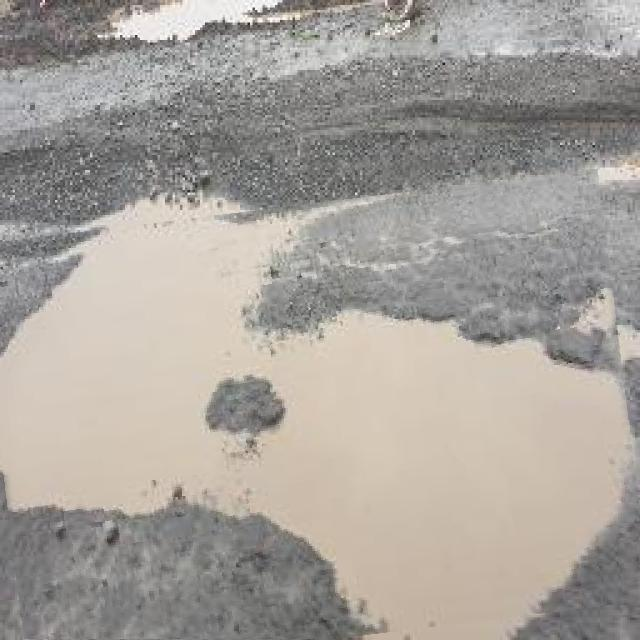puddle: (1, 187, 640, 640)
